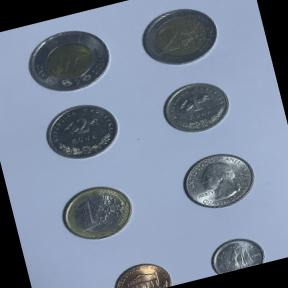1 Euro: (52, 175, 140, 250)
2 Euro: (130, 0, 228, 77)
Canda-10cent-: (202, 228, 272, 276)
Canda-2Dollar-: (14, 16, 122, 106)
Croatia-2Kune-: (33, 93, 132, 172)
US-1cent-: (104, 254, 176, 288)
US-25cent-: (173, 142, 264, 218)
